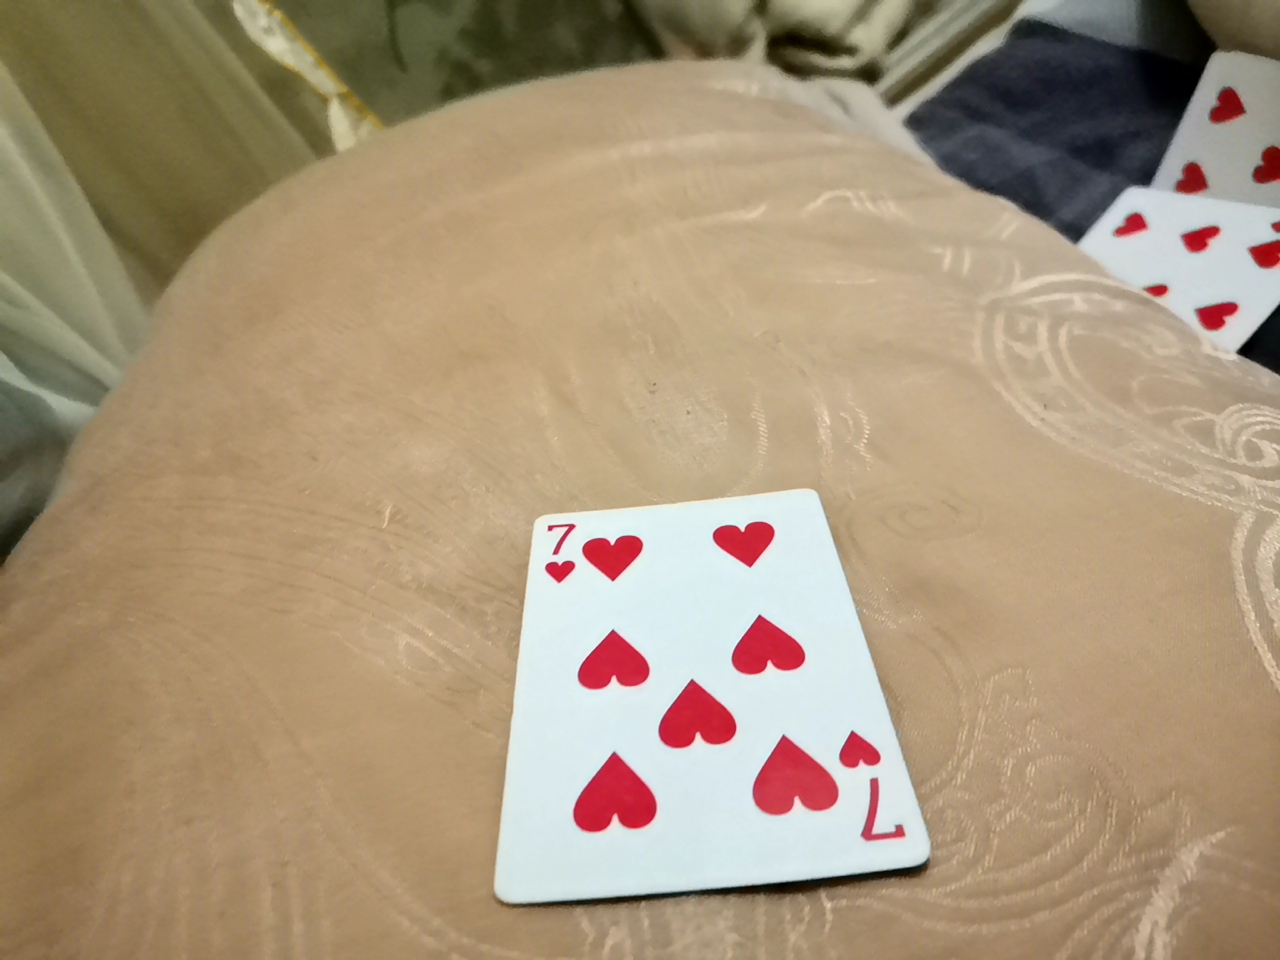hx 7: (500, 475, 914, 910)
